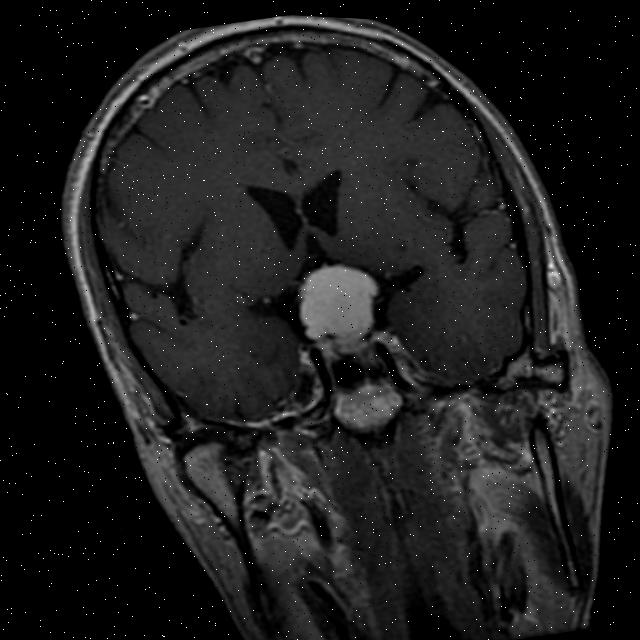Pituitary: (286, 252, 393, 353), (323, 372, 412, 445)
